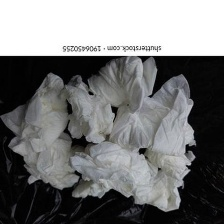tissue: (0, 56, 206, 217)
